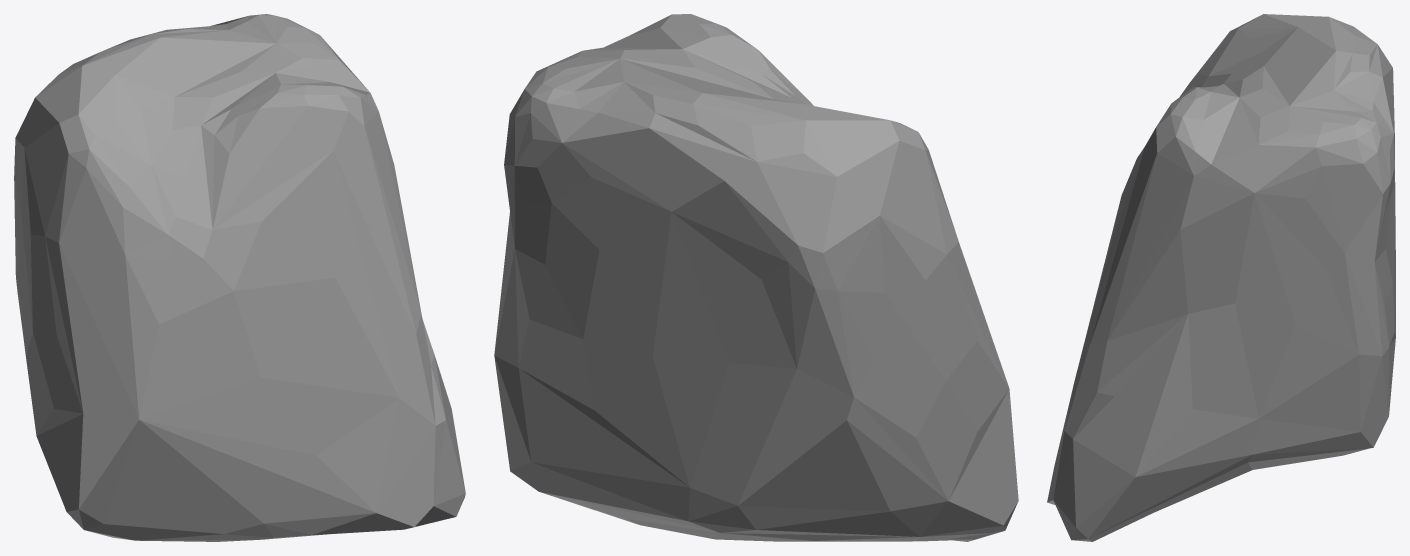
The model's file is Rock_036.glb.
The picture shows the model from 3 angles, left to right: view 1: azimuth 30°, elevation 25°; view 2: azimuth 150°, elevation 25°; view 3: azimuth 270°, elevation 25°; orthographic projection. The views are drawn at different scales.
Parts seen in each view (by area): view 1: Rock_036; view 2: Rock_036; view 3: Rock_036.
Boxes of the visible parts, left/top/right/bottom form: Rock_036: left=14, top=14, right=465, bottom=541; Rock_036: left=494, top=14, right=1018, bottom=541; Rock_036: left=1047, top=14, right=1395, bottom=541.
Bounding box in the file's own units: 2.96 × 3.31 × 2.52.
Materials: 1 (1 with a texture image).
